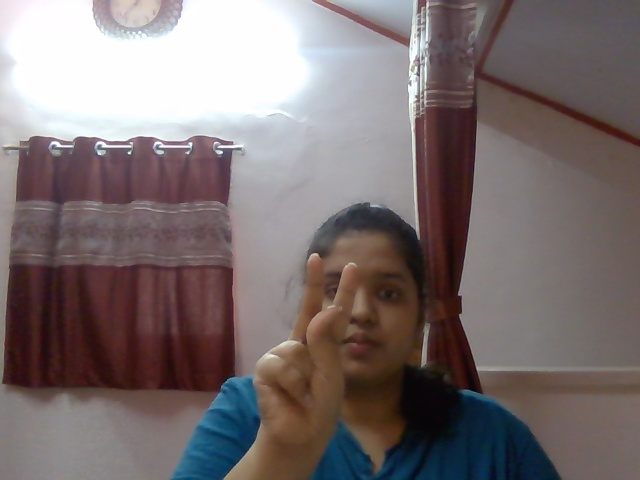k: (238, 247, 367, 439)
